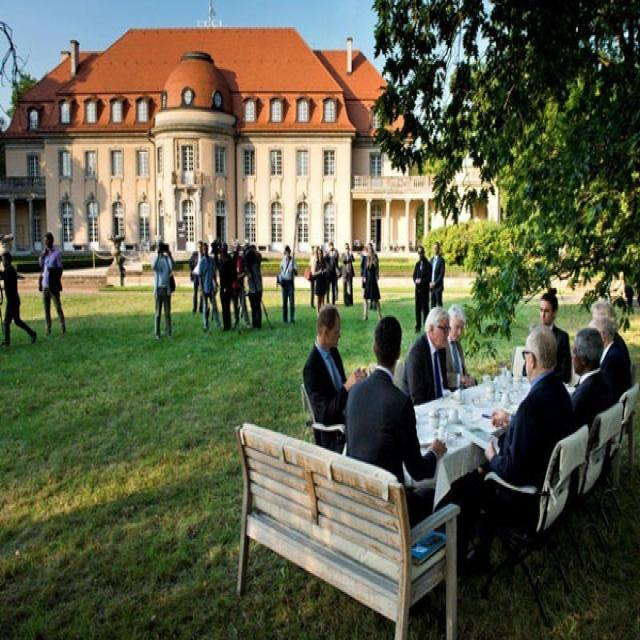body: (460, 322, 575, 584), (344, 314, 449, 530), (301, 306, 369, 459), (520, 284, 573, 386), (400, 306, 452, 406), (568, 326, 614, 434), (588, 298, 631, 390), (0, 248, 39, 349), (570, 326, 607, 432), (440, 302, 479, 393), (35, 230, 67, 340), (149, 240, 175, 342), (196, 240, 221, 331), (212, 240, 235, 331), (241, 240, 264, 326), (275, 242, 299, 324), (410, 245, 432, 333), (359, 248, 383, 323), (232, 242, 252, 330), (428, 238, 447, 310), (187, 237, 204, 315), (303, 243, 322, 310), (340, 242, 358, 307), (326, 238, 342, 302), (312, 247, 328, 310), (358, 242, 372, 290), (321, 245, 333, 293)
